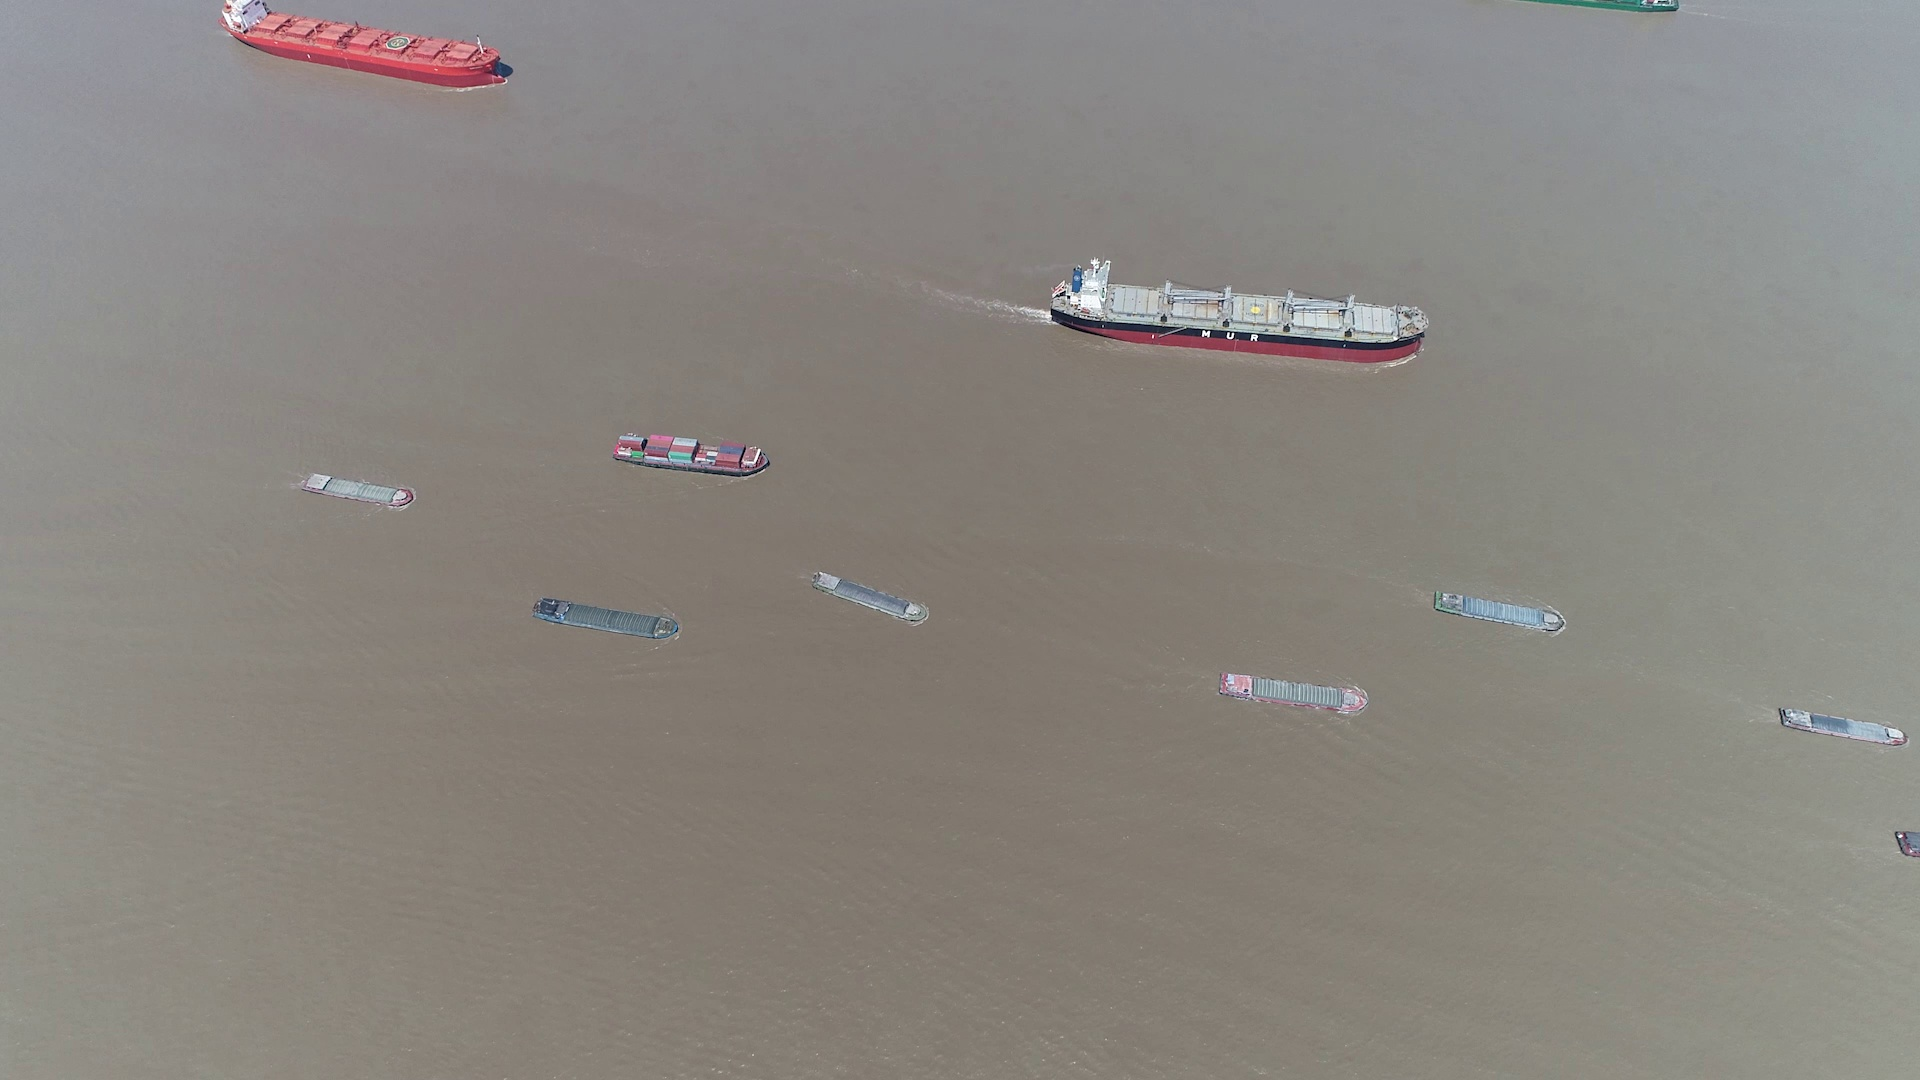ship: (1055, 262, 1425, 361), (219, 0, 514, 87), (611, 433, 771, 477), (533, 597, 678, 641), (1218, 673, 1371, 713), (815, 572, 932, 625), (1432, 589, 1567, 633), (1776, 705, 1904, 746), (299, 473, 417, 508), (1528, 0, 1679, 15), (1896, 828, 1920, 861)
